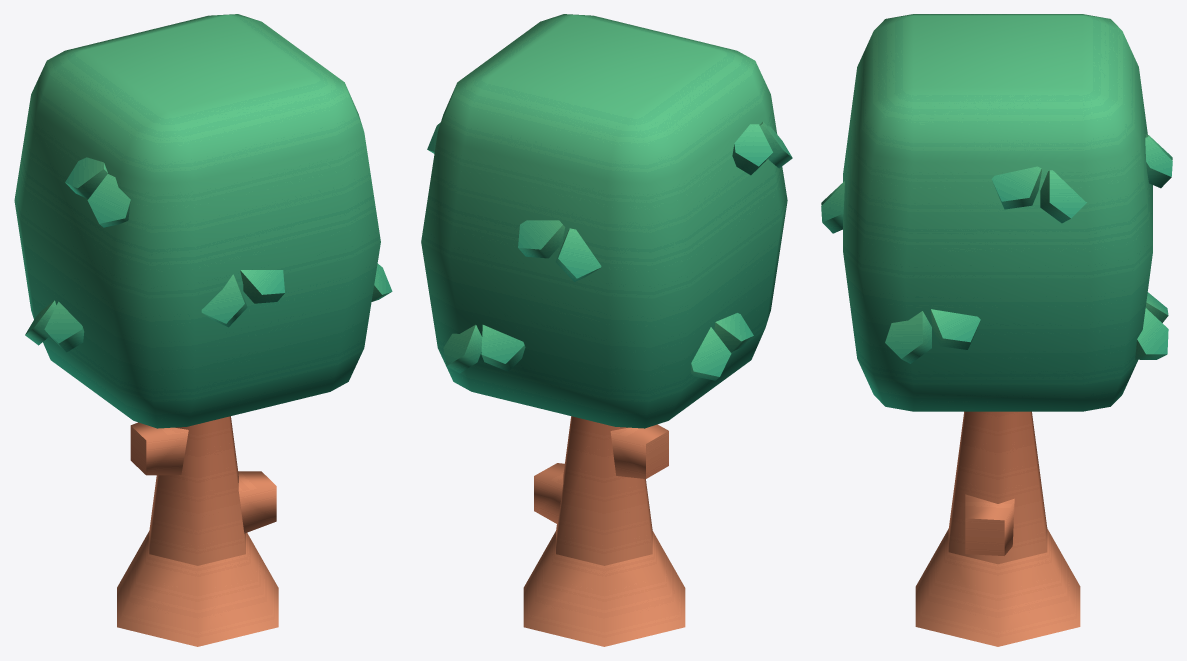
File: tree.glb
3 views of the same model, side by side, from view 1: azimuth 30°, elevation 25°; view 2: azimuth 150°, elevation 25°; view 3: azimuth 270°, elevation 25° (orthographic).
Parts seen in each view (by area): view 1: Group (×7), tree; view 2: Group (×9), tree; view 3: Group (×8), tree.
Boxes of the visible parts, bbox=[...] form: Group (×7): bbox=[14, 14, 380, 428]; tree: bbox=[117, 416, 278, 646]; Group (×9): bbox=[421, 14, 792, 428]; tree: bbox=[523, 416, 685, 646]; Group (×8): bbox=[821, 14, 1172, 411]; tree: bbox=[915, 411, 1080, 646].
Size of the model in its own units: 1.09 by 1.93 by 1.11.
Materials: 1 (1 with a texture image).
